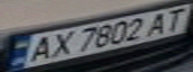0: (109, 19, 133, 45)
2: (124, 15, 151, 42)
7: (75, 25, 100, 53)
8: (93, 21, 115, 48)
A: (21, 34, 57, 65), (142, 10, 175, 37)
T: (157, 6, 193, 33)
X: (42, 29, 78, 60)
